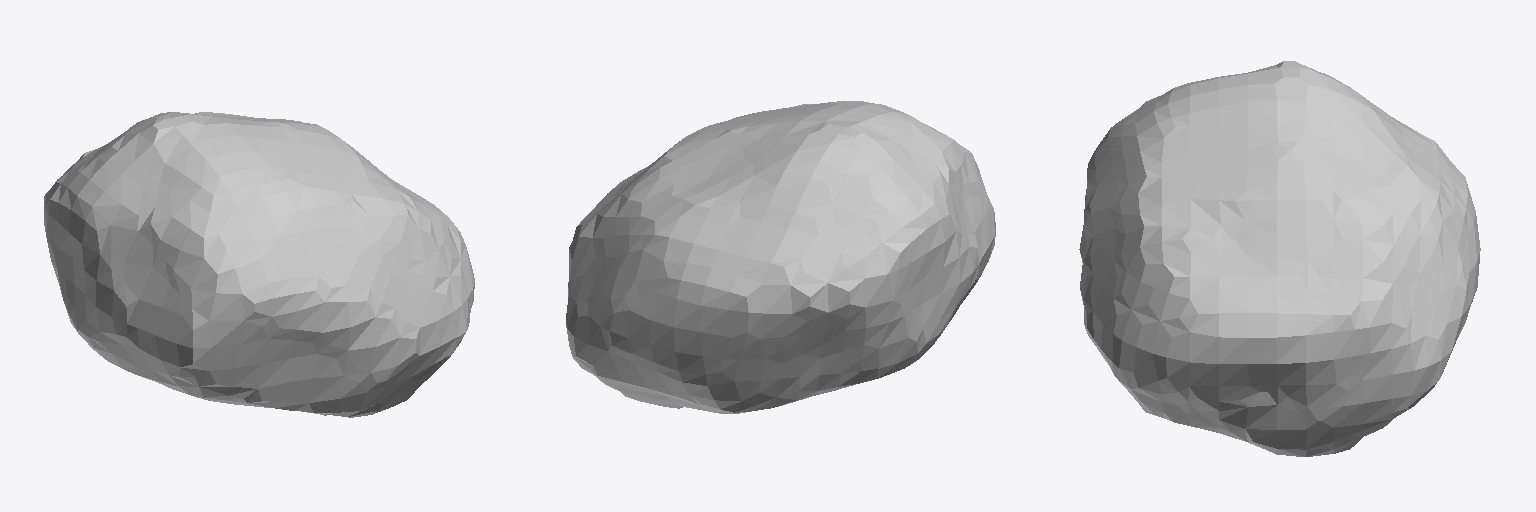
File: C3_Stone3.obj
3 views of the same model, side by side, from view 1: azimuth 30°, elevation 25°; view 2: azimuth 150°, elevation 25°; view 3: azimuth 270°, elevation 25° (orthographic).
Parts seen in each view (by area): view 1: Куб.006; view 2: Куб.006; view 3: Куб.006.
Boxes of the visible parts, box(x1,y1,x2,y2) form: Куб.006: box(44, 112, 474, 417); Куб.006: box(566, 101, 995, 413); Куб.006: box(1079, 61, 1480, 456).
Bounding box in the file's own units: 1.41 × 1.14 × 1.39.